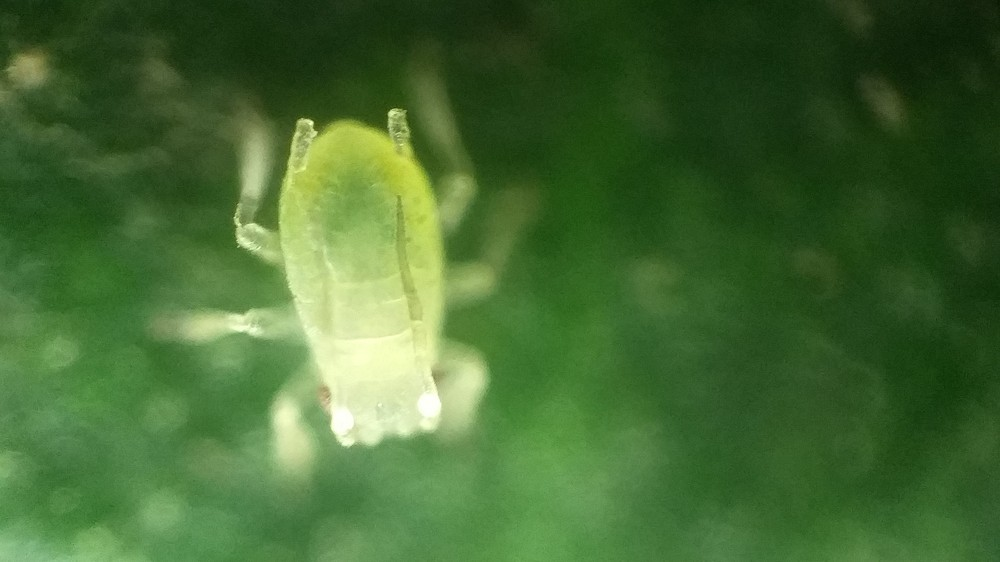Pulgon: (155, 54, 592, 505)
